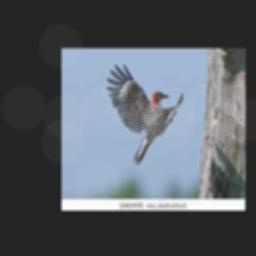Woodpecker: (105, 64, 183, 165)
